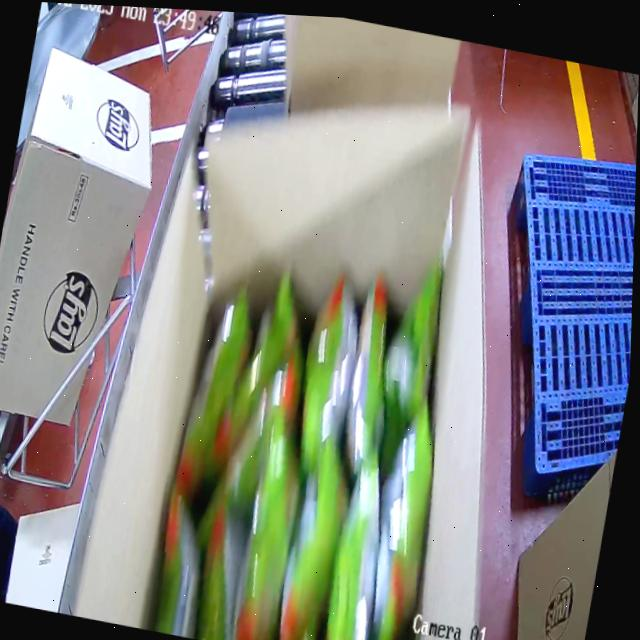YOGURT_HERB: (154, 265, 450, 640)
